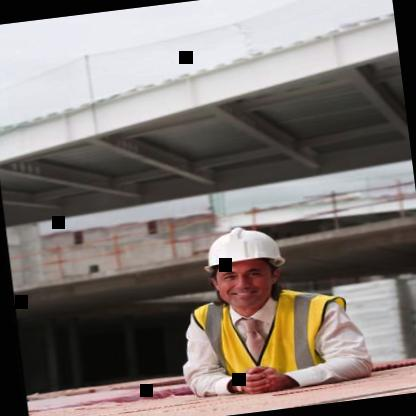helmet: (187, 214, 302, 316)
